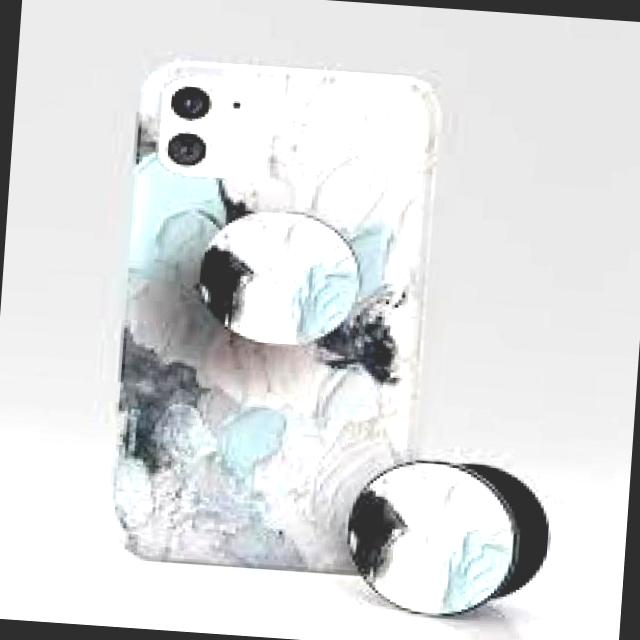lens_back: (153, 124, 214, 174), (163, 82, 218, 126)
phone: (105, 58, 441, 578)
